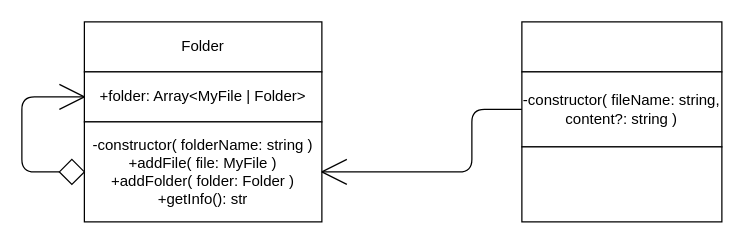
This 744x244 diagram has some shape labels left out. Each missing label, with the box of its shape:
+getInfo(): str +setContent( content: str ): (521, 146, 722, 222)
MyFile: (521, 21, 722, 72)
